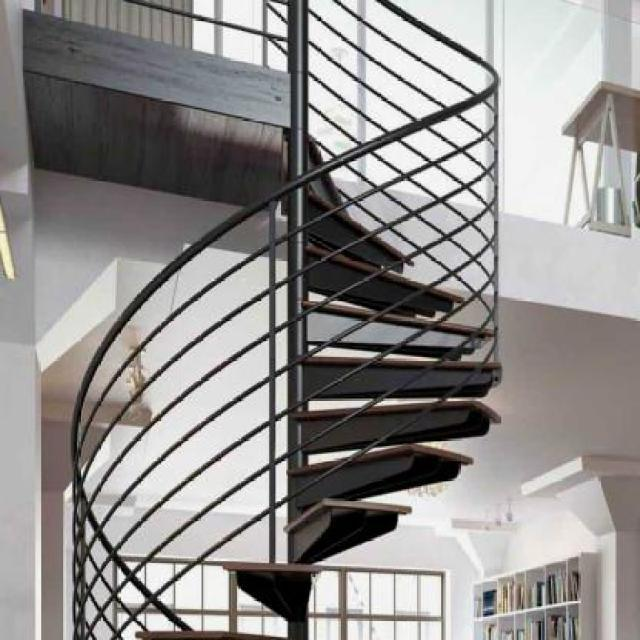stair: (20, 0, 517, 615)
